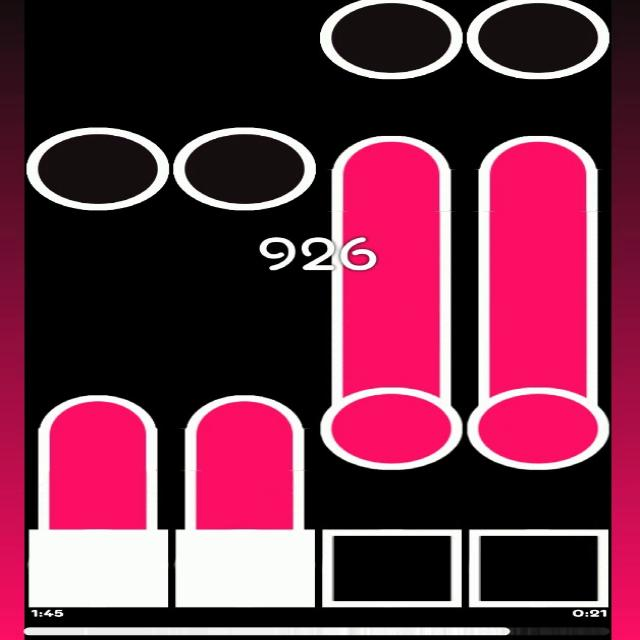end_hold: (36, 386, 162, 433), (328, 130, 454, 174), (185, 389, 306, 434), (474, 132, 598, 174)
note: (26, 126, 172, 210), (172, 126, 312, 211), (319, 0, 464, 79), (466, 0, 608, 79)
start_hold: (468, 375, 608, 470), (320, 376, 463, 469)
